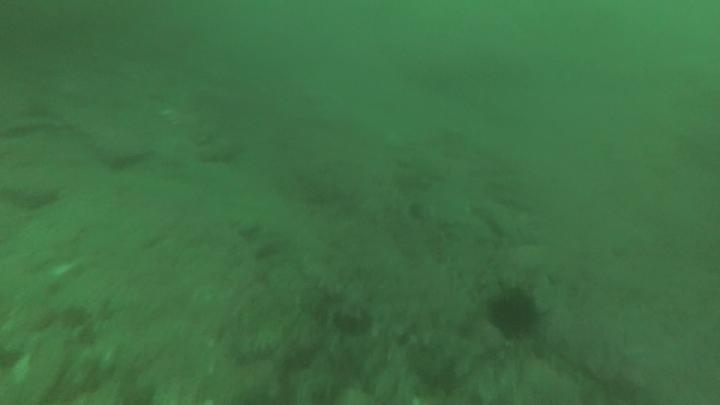echinus: (484, 283, 543, 342)
